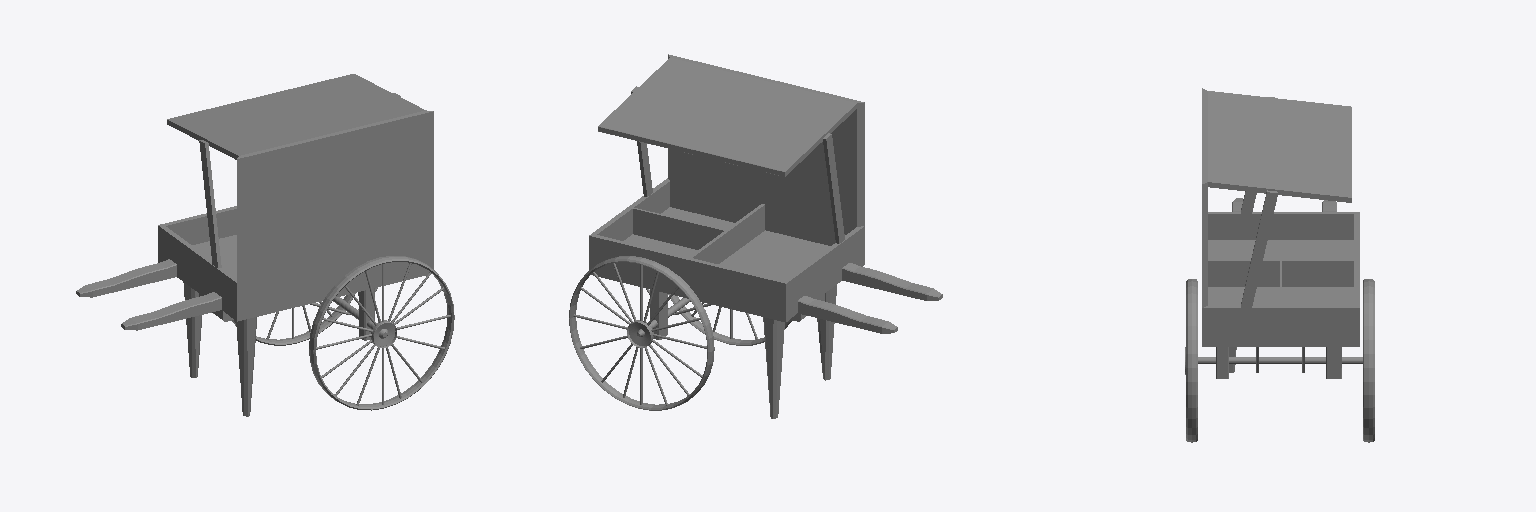
The model's file is vws.obj.
3 views of the same model, side by side, from view 1: azimuth 30°, elevation 25°; view 2: azimuth 150°, elevation 25°; view 3: azimuth 270°, elevation 25° (orthographic).
Parts seen in each view (by area): view 1: vmc; view 2: vmc; view 3: vmc.
Boxes of the visible parts, x1=… form: vmc: x1=76, y1=74, x2=454, y2=416; vmc: x1=569, y1=54, x2=942, y2=418; vmc: x1=1185, y1=88, x2=1374, y2=442.
Size of the model in its own units: 145 by 126 by 77.49.